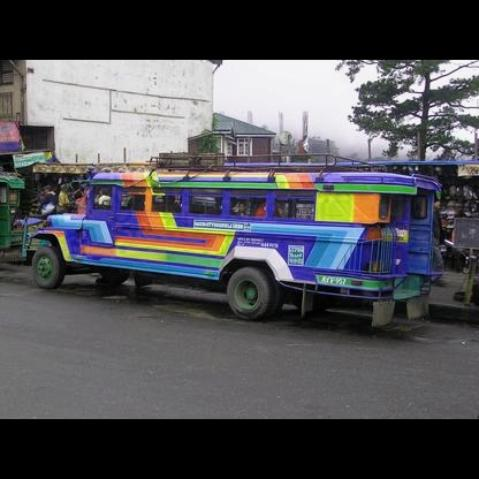jeepney: (17, 151, 441, 339)
